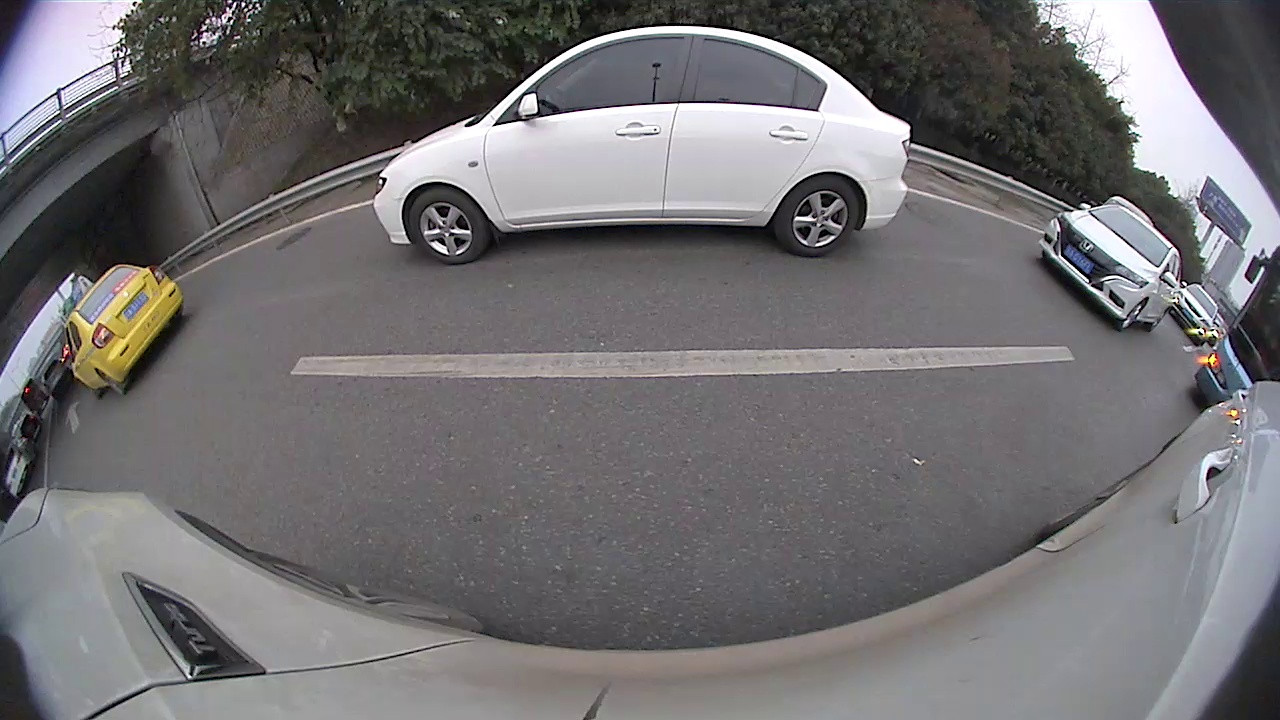bus: (1183, 239, 1279, 411)
car: (371, 20, 916, 269), (1036, 198, 1182, 338), (60, 261, 188, 402), (1171, 280, 1221, 348)
front: (405, 187, 490, 268), (1119, 297, 1148, 332)
rear: (779, 174, 860, 257)
